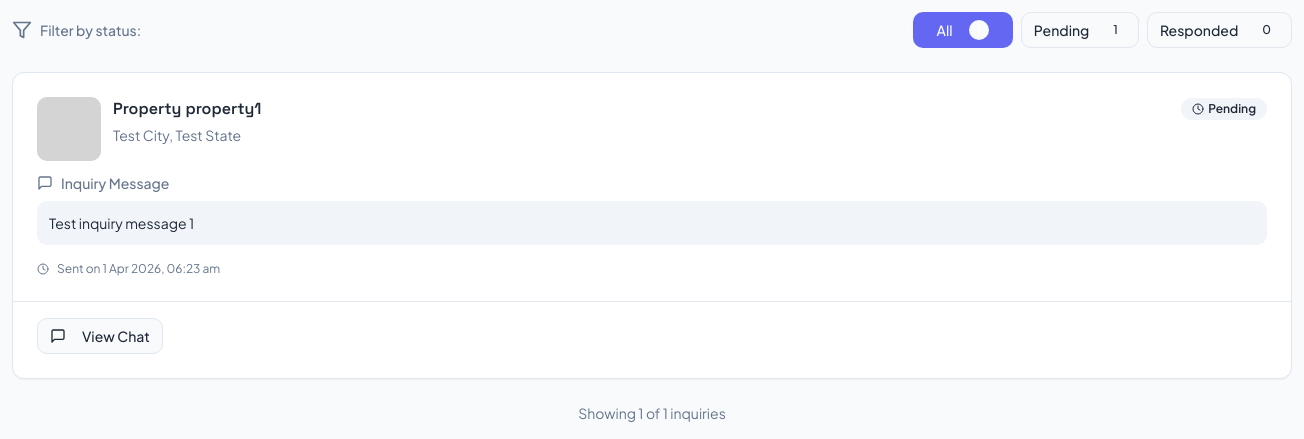
Test: InquiryList Component › should display empty state with filter-specific message
The width and height of the screenshot is (1304, 439).
Note: Click responded filter (no responded inquiries)
What coordinates should you click on to do the following:
click the button "Responded 0"
I would click on:
 (1219, 30)
Its box is [1147,12,1292,48].
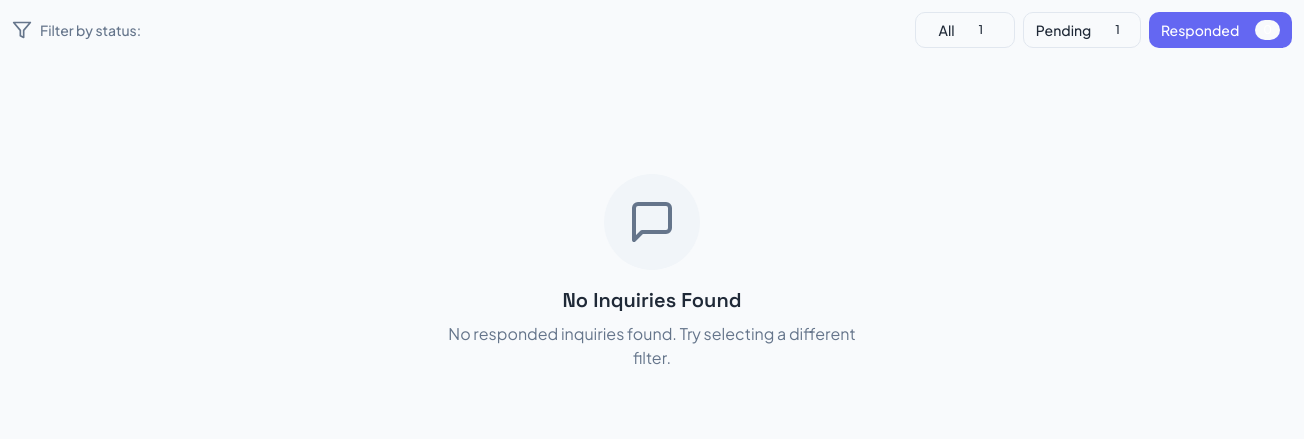
expect the heading "No Inquiries Found" is shown: met, box [562,286,742,314]
expect the text "No responded inquiries found" is shown: met, box [448,323,856,368]
